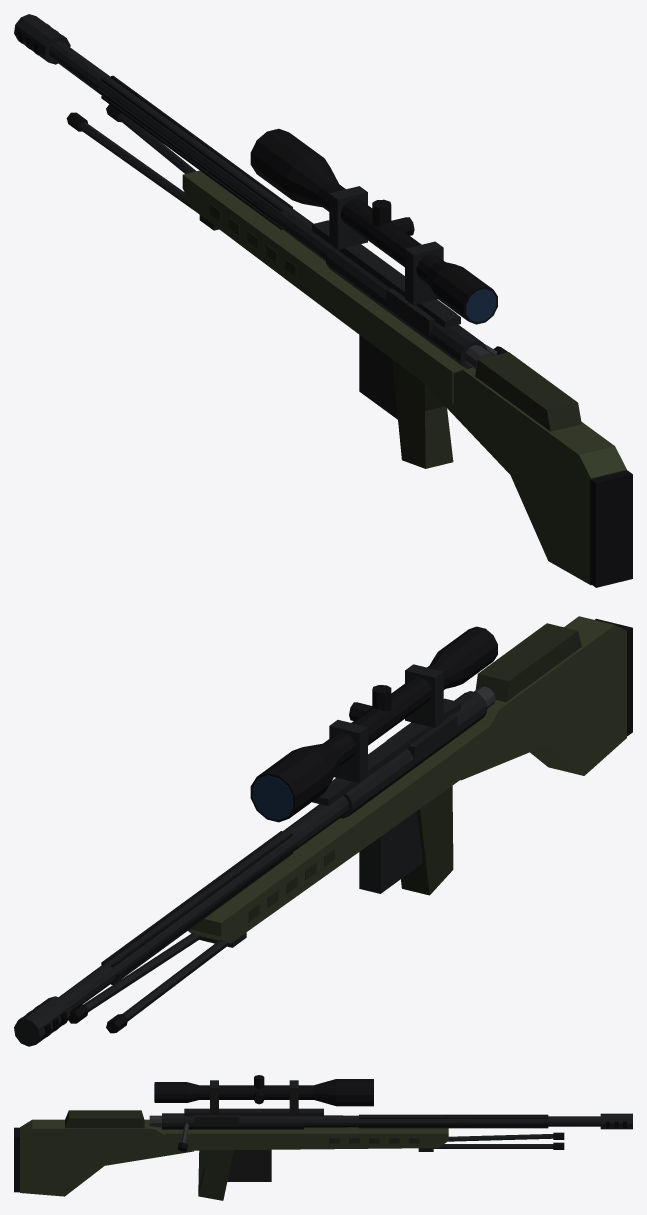
Rendered from sniper.glb.
3 views of the same model, one above another, from view 1: azimuth 30°, elevation 25°; view 2: azimuth 150°, elevation 25°; view 3: azimuth 270°, elevation 25° (orthographic). The views are drawn at different scales.
Visible parts, largest first — view 1: sniper; view 2: sniper; view 3: sniper.
Part boxes in pixels (x1,y1,x2,y2): sniper: (14, 14, 632, 587); sniper: (14, 616, 632, 1046); sniper: (14, 1075, 632, 1200).
Bounding box in the file's own units: 0.0958 × 0.266 × 1.24.
